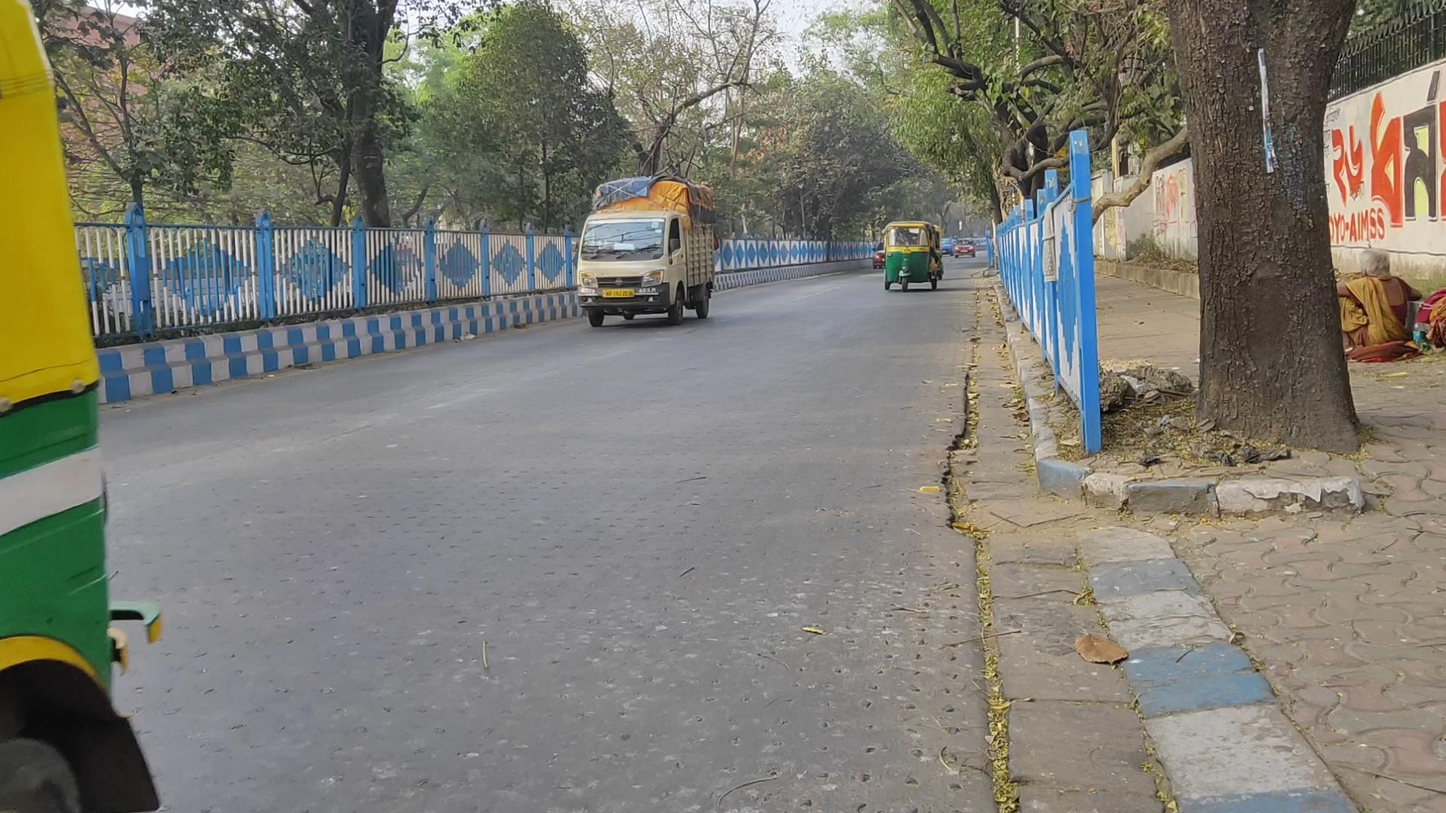Auto: (882, 220, 941, 294)
car: (952, 237, 978, 260)
van: (577, 175, 716, 327)
